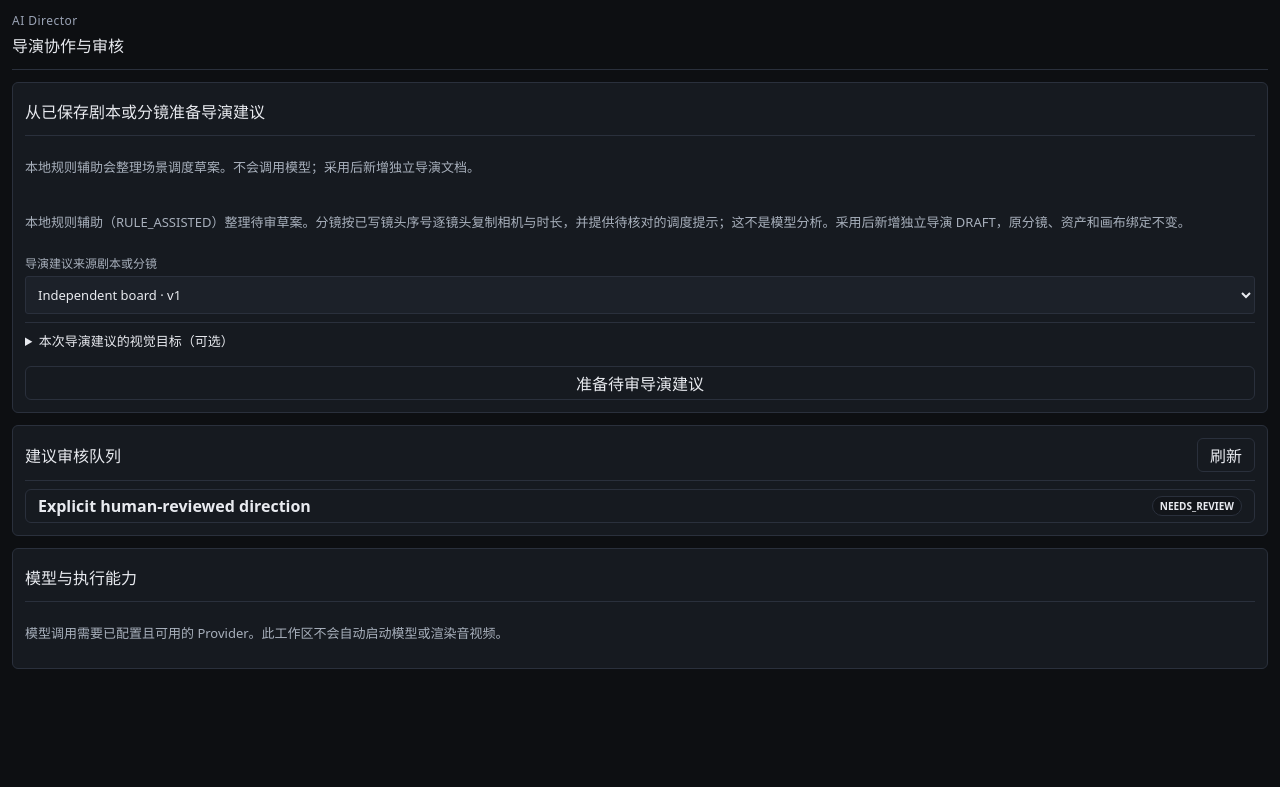
Test case: does not fall back to legacy model writes when the host has not advertised this contract
The image size is (1280, 787).
Click the button "Explicit human-reviewed direction NEEDS_REVIEW".
click(174, 506)  # box [25,489,1255,523]
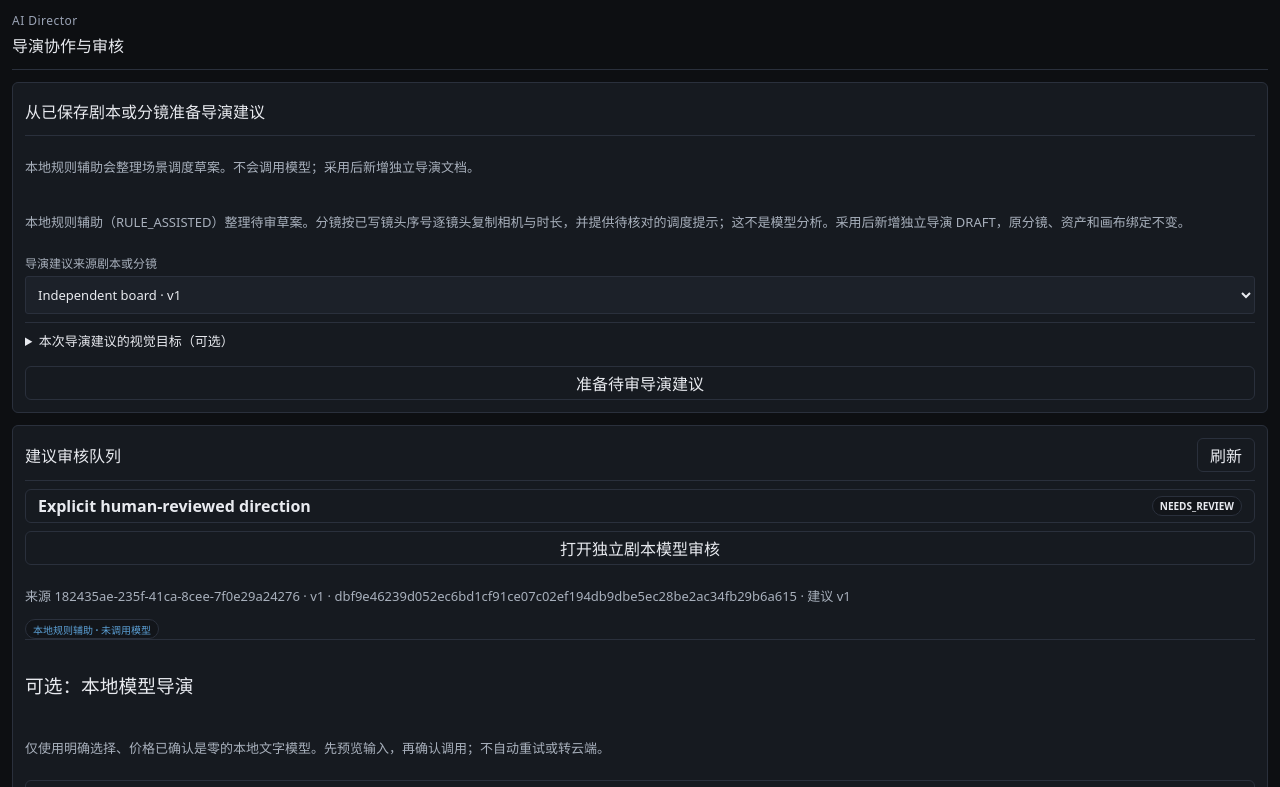
Click the button "打开独立剧本模型审核".
click(640, 548)  # box [25,531,1255,565]
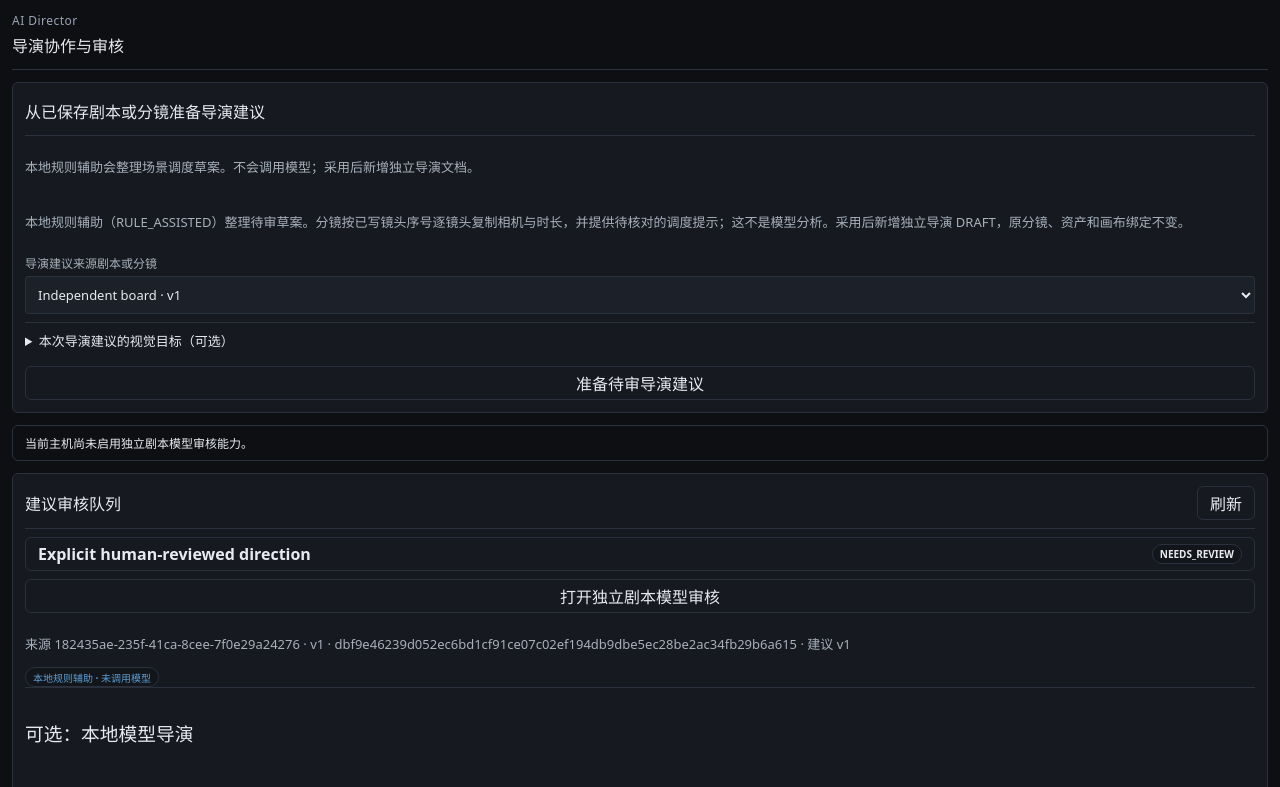
Now the text "当前主机尚未启用独立剧本模型审核能力。" is shown, box [12,425,1268,461]
